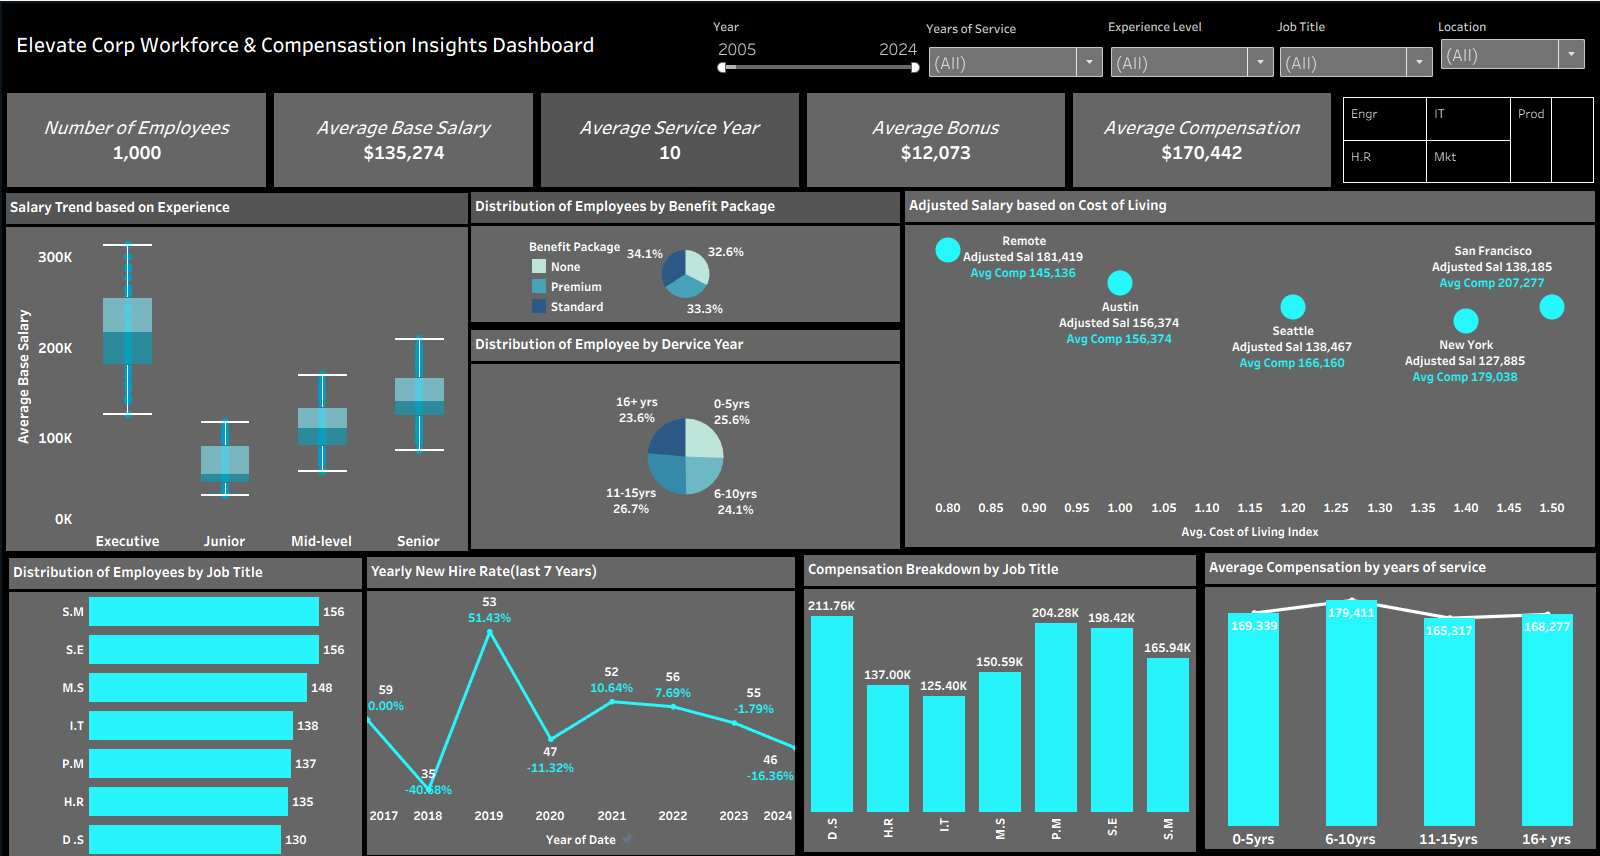

The page's visual inventory and layout, read from the dashboard file:
{"tool":"tableau","page":{"name":"Dashboard 1","canvas":[1000,1000],"units":"permille","ordinal":0},"visuals":[{"type":"text","box":[5,9.2,890.3,80.8]},{"type":"filter","title":"Yearly hire rate ","param":"[federated.1ygjxkt03th22419ke98i1ybsjos].[yr:Date:qk]","box":[444.3,19.2,131.7,70.4]},{"type":"filter","title":"Salary by Exeperince","param":"[federated.1ygjxkt03th22419ke98i1ybsjos].[none:Experience Level:nk]","box":[690.5,19.2,105.1,73]},{"type":"filter","title":"Distribution of Employees by Job Title","param":"[federated.1ygjxkt03th22419ke98i1ybsjos].[attr:Job Title:nk]","box":[796.2,19.2,99.4,71.7]},{"type":"filter","title":"Adjusted Salary by location","param":"[federated.1ygjxkt03th22419ke98i1ybsjos].[none:Location:nk]","box":[896.2,19.2,93.7,73]},{"type":"filter","title":"Avg Comp by Year of service","param":"[federated.1ygjxkt03th22419ke98i1ybsjos].[Years of Service (group)]","box":[577.2,21.8,112,67.9]},{"type":"worksheet","title":"Number of Employees","mark":"Automatic","box":[1.9,101.6,166.5,117.8]},{"type":"worksheet","title":"Avg Base Salary","mark":"Automatic","box":[168.3,101.6,166.5,117.8]},{"type":"worksheet","title":"Avg Service Year","mark":"Automatic","box":[334.8,101.6,165.8,117.8]},{"type":"worksheet","title":"Avg Bonus","mark":"Automatic","box":[500.6,101.6,165.8,117.8]},{"type":"worksheet","title":"Avg Compensation","mark":"Automatic","box":[666.5,101.6,165.8,117.8]},{"type":"worksheet","title":"dept filter ","mark":"Square","box":[832.3,101.6,165.8,117.8]},{"type":"worksheet","title":"Adjusted Salary by location","mark":"Circle","rows":["Calculation_770960004385341444"],"cols":["Cost of Living Index"],"box":[562,215.1,435.4,420]},{"type":"worksheet","title":"Benefit package","mark":"Pie","box":[291.1,216.4,272.1,159.4]},{"type":"worksheet","title":"Salary by Exeperince","mark":"Circle","rows":["Calculation_770960004366110720"],"cols":["Experience Level"],"box":[3.8,221.5,288,413.6]},{"type":"legend","title":"Benefit package","param":"[federated.1ygjxkt03th22419ke98i1ybsjos].[none:Benefit Package:nk]","box":[329.8,274,60.1,105]},{"type":"worksheet","title":"Distribution by service year","mark":"Pie","box":[291.1,375.8,272.1,261.9]},{"type":"worksheet","title":"Avg Comp by Year of service","mark":"Automatic","rows":["Calculation_770960004370976771","Calculation_770960004370976771"],"box":[748.7,632.5,248.7,350.8]},{"type":"worksheet","title":"Avg Compensation by Job Title","mark":"Automatic","rows":["Calculation_770960004370976771"],"cols":["Job Title (copy)_770960004368367617"],"box":[498.7,635.1,249.4,352.1]},{"type":"worksheet","title":"Yearly hire rate ","mark":"Automatic","rows":["Calculation_770960004389048325"],"cols":["Date"],"box":[226.6,637.6,271.5,353.4]},{"type":"worksheet","title":"Distribution of Employees by Job Title","mark":"Automatic","rows":["Job Title (copy)_770960004368367617"],"cols":["Calculation_770960004368863234"],"box":[3.2,638.9,225.3,355.9]}]}

Visuals, with their boxes on the dashboard's canvas, which has no fixed pixel size, in thousandths of its width and height (x1, y1, x2, y2). These are canvas units, not pixel positions in the 1600x856 screenshot, which may show the page scaled, cropped or inside an application window:
text: box(5, 9, 895, 90)
"Yearly hire rate " filter: box(444, 19, 576, 90)
"Salary by Exeperince" filter: box(690, 19, 796, 92)
"Distribution of Employees by Job Title" filter: box(796, 19, 896, 91)
"Adjusted Salary by location" filter: box(896, 19, 990, 92)
"Avg Comp by Year of service" filter: box(577, 22, 689, 90)
"Number of Employees" worksheet: box(2, 102, 168, 219)
"Avg Base Salary" worksheet: box(168, 102, 335, 219)
"Avg Service Year" worksheet: box(335, 102, 501, 219)
"Avg Bonus" worksheet: box(501, 102, 666, 219)
"Avg Compensation" worksheet: box(666, 102, 832, 219)
"dept filter " worksheet (Square marks): box(832, 102, 998, 219)
"Adjusted Salary by location" worksheet (Circle marks): box(562, 215, 997, 635)
"Benefit package" worksheet (Pie marks): box(291, 216, 563, 376)
"Salary by Exeperince" worksheet (Circle marks): box(4, 222, 292, 635)
"Benefit package" legend: box(330, 274, 390, 379)
"Distribution by service year" worksheet (Pie marks): box(291, 376, 563, 638)
"Avg Comp by Year of service" worksheet: box(749, 632, 997, 983)
"Avg Compensation by Job Title" worksheet: box(499, 635, 748, 987)
"Yearly hire rate " worksheet: box(227, 638, 498, 991)
"Distribution of Employees by Job Title" worksheet: box(3, 639, 228, 995)
